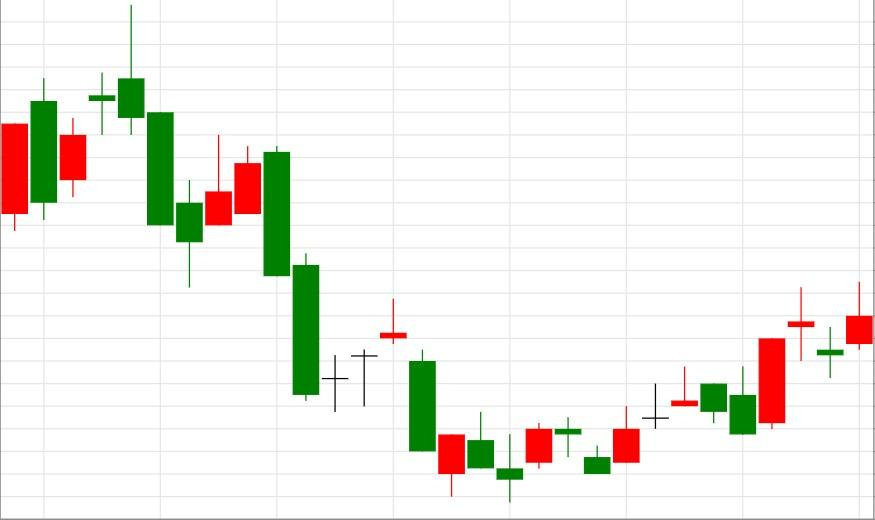bearish_engulfing_fall: (176, 134, 291, 287)
